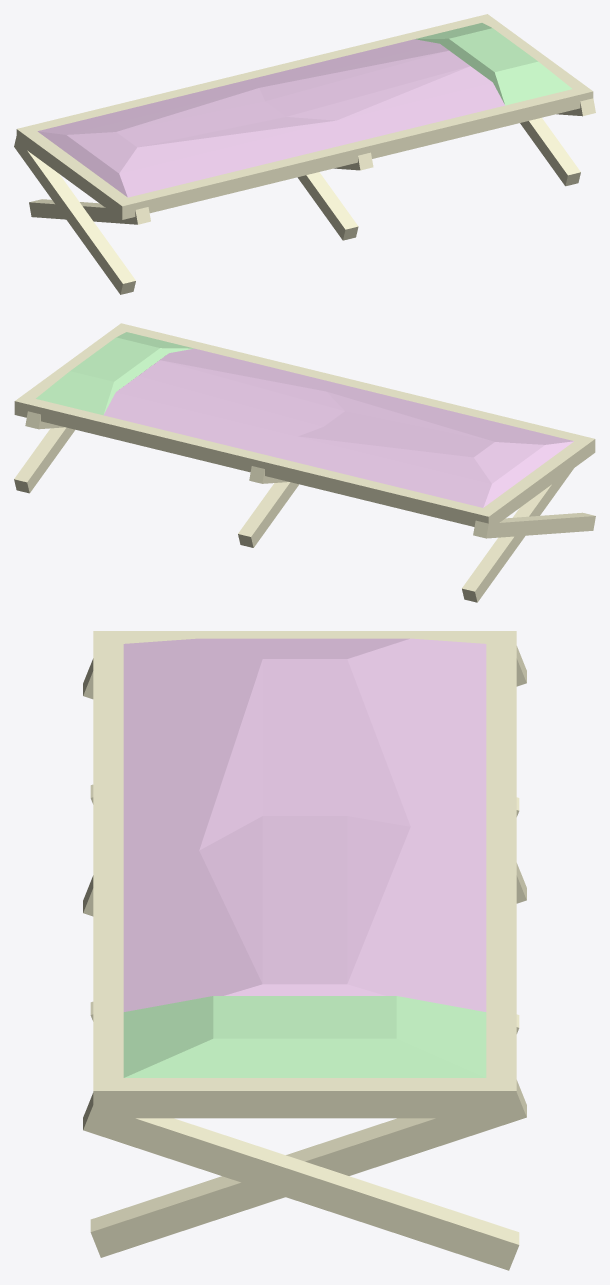
File: Cot.glb
The picture shows the model from 3 angles, top to bottom: view 1: azimuth 30°, elevation 25°; view 2: azimuth 150°, elevation 25°; view 3: azimuth 270°, elevation 25°; orthographic projection. The views are drawn at different scales.
Parts seen in each view (by area): view 1: Cot; view 2: Cot; view 3: Cot.
Part boxes in pixels (x1,y1,x2,y2): Cot: (14, 14, 595, 294); Cot: (14, 323, 595, 602); Cot: (83, 631, 526, 1270).
Bounding box in the file's own units: 1.8 × 0.3795 × 0.7342.
